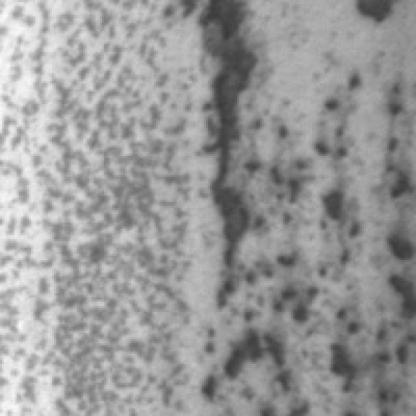patches: (197, 0, 254, 262)
pitted_surface: (0, 0, 191, 410), (235, 73, 412, 333)
